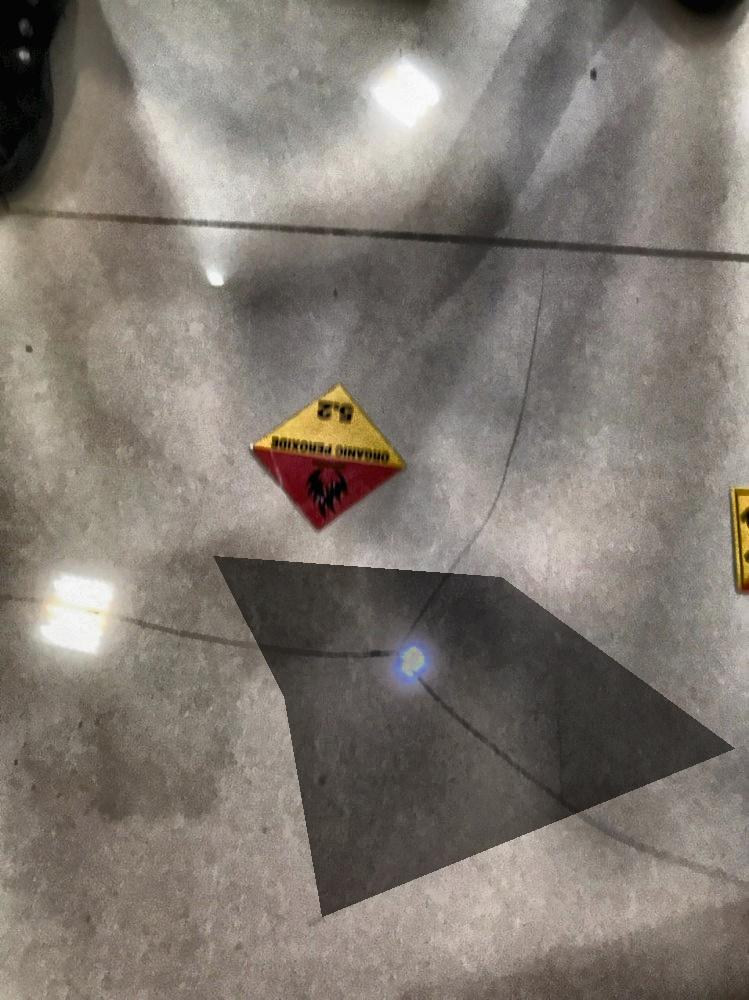organic-peroxide: (251, 386, 409, 533)
